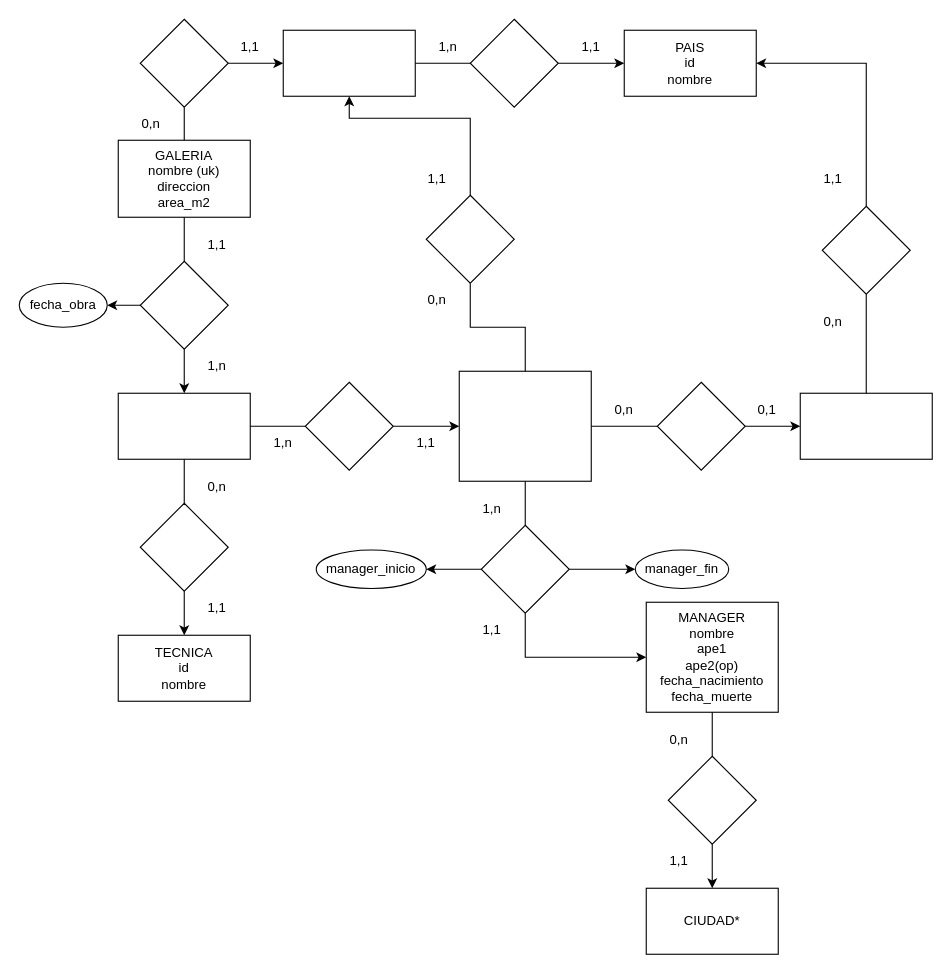
This 952x974 diagram has some shape labels left out. The centre of each missing label's shape, as x and y in pixels:
"AUTOR nombre ape1 ape2(op) fecha_nacimiento fecha_muerte" belongs at point 524,425.
"CIUDAD id nombre" belongs at point 348,62.
"ESCUELA nombre" belongs at point 865,425.
"OBRAS codigo nombre dimensiones" belongs at point 183,425.
